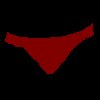mutande: (5, 22, 94, 74)
